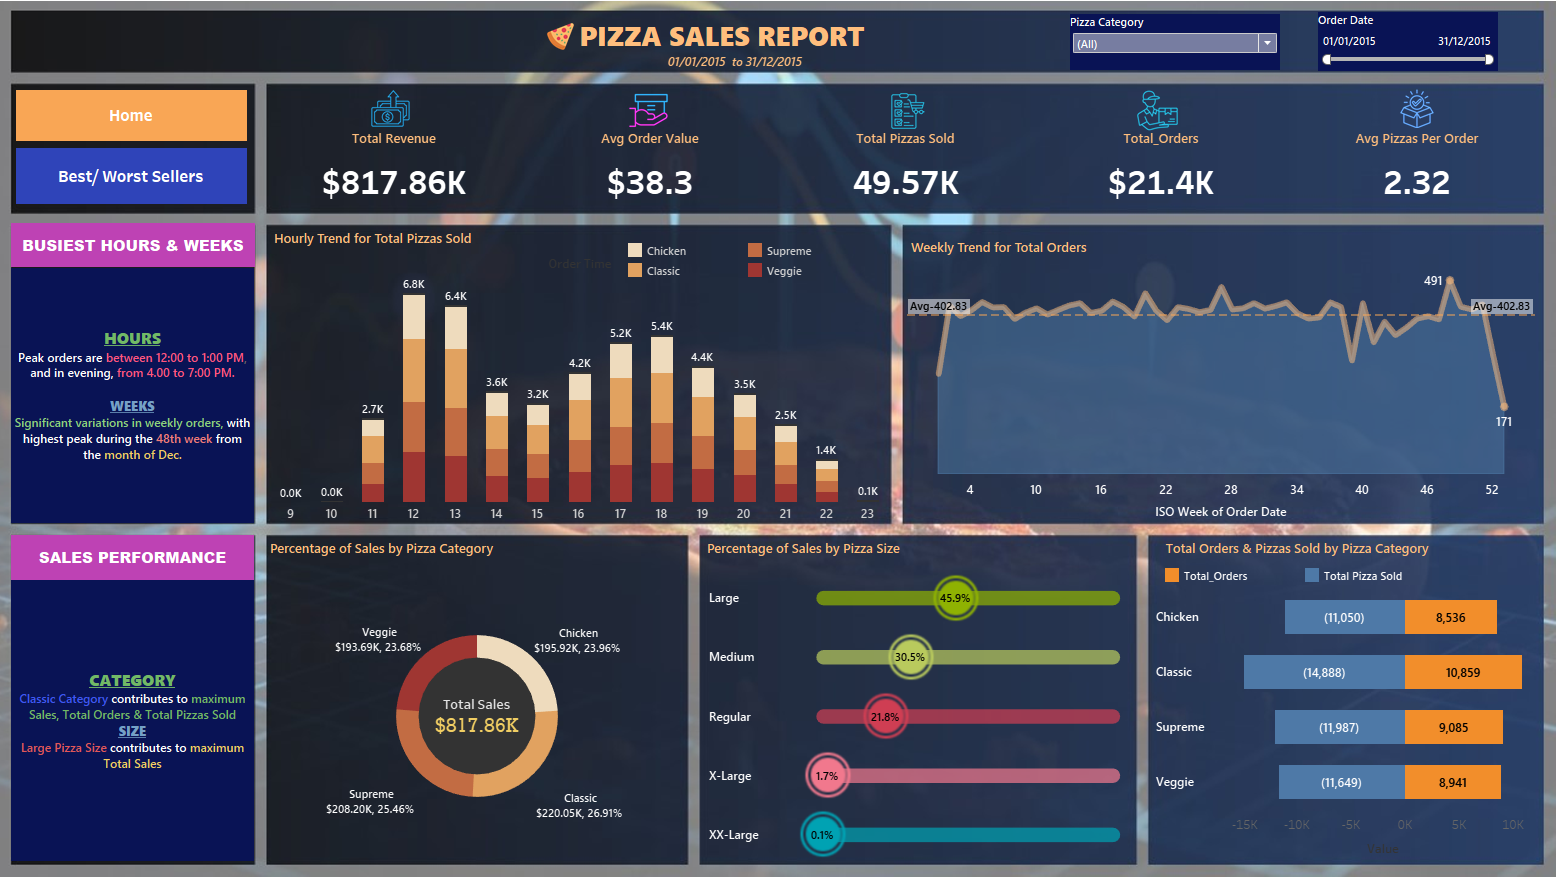

This screenshot's page, from the dashboard's own definition file:
{"tool":"tableau","page":{"name":"Home","canvas":[1600,900],"ordinal":1},"visuals":[{"type":"image","param":"E:/Data/SQL/Projects/Pizza Tableau 1.jpg","box":[8,8,1584,884]},{"type":"text","box":[511,21,466,50]},{"type":"filter","title":"Hourly Trend for Pizzas Sold","param":"[federated.0rc17ho0k1unk21fje6au02swnq1].[none:order_date:qk]","box":[1340,23,180,59]},{"type":"filter","title":"Hourly Trend for Pizzas Sold","param":"[federated.0rc17ho0k1unk21fje6au02swnq1].[none:pizza_category:nk]","box":[1092,25,210,56]},{"type":"image","param":"E:/Data/SQL/Projects/Pizza_sales/Pizza Sales Images-20231016T125009Z-001/Pizza S","box":[557,33,51,28]},{"type":"worksheet","title":"Sheet 7","mark":"Automatic","box":[658,61,197,22]},{"type":"image","param":"E:/Data/SQL/Projects/Pizza_sales/Pizza Sales Images-20231016T125009Z-001/Pizza S","box":[380,97,65,44]},{"type":"image","param":"E:/Data/SQL/Projects/Pizza_sales/Pizza Sales Images-20231016T125009Z-001/Pizza S","box":[635,99,71,44]},{"type":"image","param":"E:/Data/SQL/Projects/Pizza_sales/Pizza Sales Images-20231016T125009Z-001/Pizza S","box":[1145,100,68,42]},{"type":"image","param":"E:/Data/SQL/Projects/Pizza_sales/Pizza Sales Images-20231016T125009Z-001/Pizza S","box":[1410,100,58,39]},{"type":"dashboard-object","box":[39,101,231,51]},{"type":"image","param":"E:/Data/SQL/Projects/Pizza_sales/Pizza Sales Images-20231016T125009Z-001/Pizza S","box":[893,103,74,37]},{"type":"worksheet","title":"KPI Banner","mark":"Automatic","box":[288,139,1279,85]},{"type":"dashboard-object","box":[39,159,231,56]},{"type":"text","box":[33,234,244,44]},{"type":"worksheet","title":"Hourly Trend for Pizzas Sold","mark":"Bar","rows":["Calculation_548031791776968707","Calculation_548031791776968707"],"cols":["order_time"],"box":[292,236,619,297]},{"type":"worksheet","title":"Sheet 3","mark":"Area","rows":["Calculation_548031791776460801","Calculation_548031791776460801"],"cols":["order_date"],"box":[929,245,628,285]},{"type":"legend","title":"Hourly Trend for Pizzas Sold","param":"[federated.0rc17ho0k1unk21fje6au02swnq1].[none:pizza_category:nk]","box":[647,251,253,55]},{"type":"text","box":[33,279,243,255]},{"type":"text","box":[1185,544,269,30]},{"type":"text","box":[33,546,243,45]},{"type":"worksheet","title":"Sheet 4","mark":"Pie","rows":["Calculation_548031791937507336","Calculation_548031791937568778"],"box":[288,546,422,329]},{"type":"worksheet","title":"Sheet 5","mark":"Line","rows":["pizza_size"],"box":[725,546,432,329]},{"type":"legend","title":"Sheet 6","param":"[federated.0rc17ho0k1unk21fje6au02swnq1].[:Measure Names]","box":[1184,576,342,36]},{"type":"text","box":[33,591,243,281]},{"type":"worksheet","title":"Sheet 6","mark":"Automatic","rows":["pizza_category"],"box":[1172,600,386,275]}]}

Visuals, with their boxes in screenshot pixels (x1, y1, x2, y2), scaled from the page's 1600x900 canvas onto the 1556x877 screenshot:
image: pyautogui.locateOnScreen(8, 8, 1548, 869)
text: pyautogui.locateOnScreen(497, 20, 950, 69)
"Hourly Trend for Pizzas Sold" filter: pyautogui.locateOnScreen(1303, 22, 1478, 80)
"Hourly Trend for Pizzas Sold" filter: pyautogui.locateOnScreen(1062, 24, 1266, 79)
image: pyautogui.locateOnScreen(542, 32, 591, 59)
"Sheet 7" worksheet: pyautogui.locateOnScreen(640, 59, 831, 81)
image: pyautogui.locateOnScreen(370, 95, 433, 137)
image: pyautogui.locateOnScreen(618, 96, 687, 139)
image: pyautogui.locateOnScreen(1114, 97, 1180, 138)
image: pyautogui.locateOnScreen(1371, 97, 1428, 135)
dashboard-object: pyautogui.locateOnScreen(38, 98, 263, 148)
image: pyautogui.locateOnScreen(868, 100, 940, 136)
"KPI Banner" worksheet: pyautogui.locateOnScreen(280, 135, 1524, 218)
dashboard-object: pyautogui.locateOnScreen(38, 155, 263, 210)
text: pyautogui.locateOnScreen(32, 228, 269, 271)
"Hourly Trend for Pizzas Sold" worksheet (Bar marks): pyautogui.locateOnScreen(284, 230, 886, 519)
"Sheet 3" worksheet (Area marks): pyautogui.locateOnScreen(903, 239, 1514, 516)
"Hourly Trend for Pizzas Sold" legend: pyautogui.locateOnScreen(629, 245, 875, 298)
text: pyautogui.locateOnScreen(32, 272, 268, 520)
text: pyautogui.locateOnScreen(1152, 530, 1414, 559)
text: pyautogui.locateOnScreen(32, 532, 268, 576)
"Sheet 4" worksheet (Pie marks): pyautogui.locateOnScreen(280, 532, 690, 853)
"Sheet 5" worksheet (Line marks): pyautogui.locateOnScreen(705, 532, 1125, 853)
"Sheet 6" legend: pyautogui.locateOnScreen(1151, 561, 1484, 596)
text: pyautogui.locateOnScreen(32, 576, 268, 850)
"Sheet 6" worksheet: pyautogui.locateOnScreen(1140, 585, 1515, 853)
